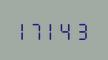four: (60, 20, 73, 40)
one: (18, 20, 31, 40), (46, 20, 59, 40)
seven: (32, 20, 45, 40)
three: (74, 20, 87, 40)
